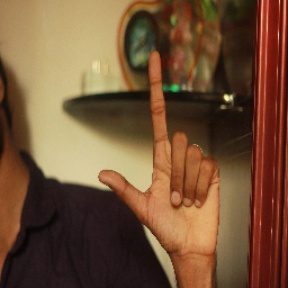L: (95, 51, 223, 245)
